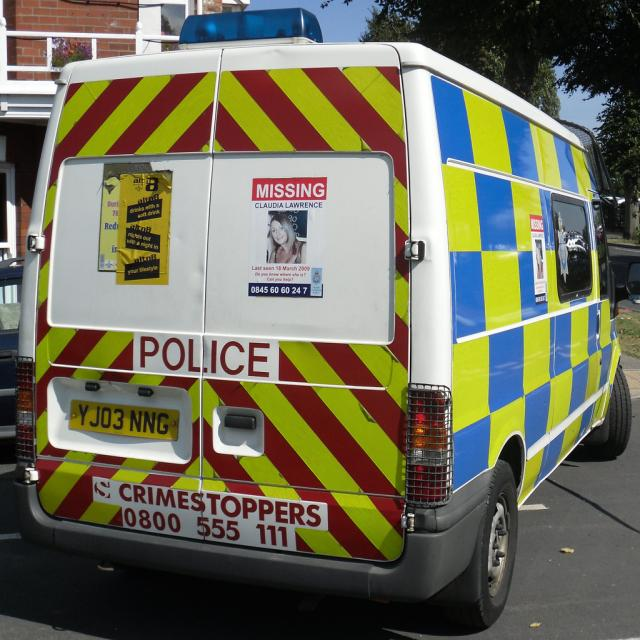no_fire: (12, 20, 600, 569)
